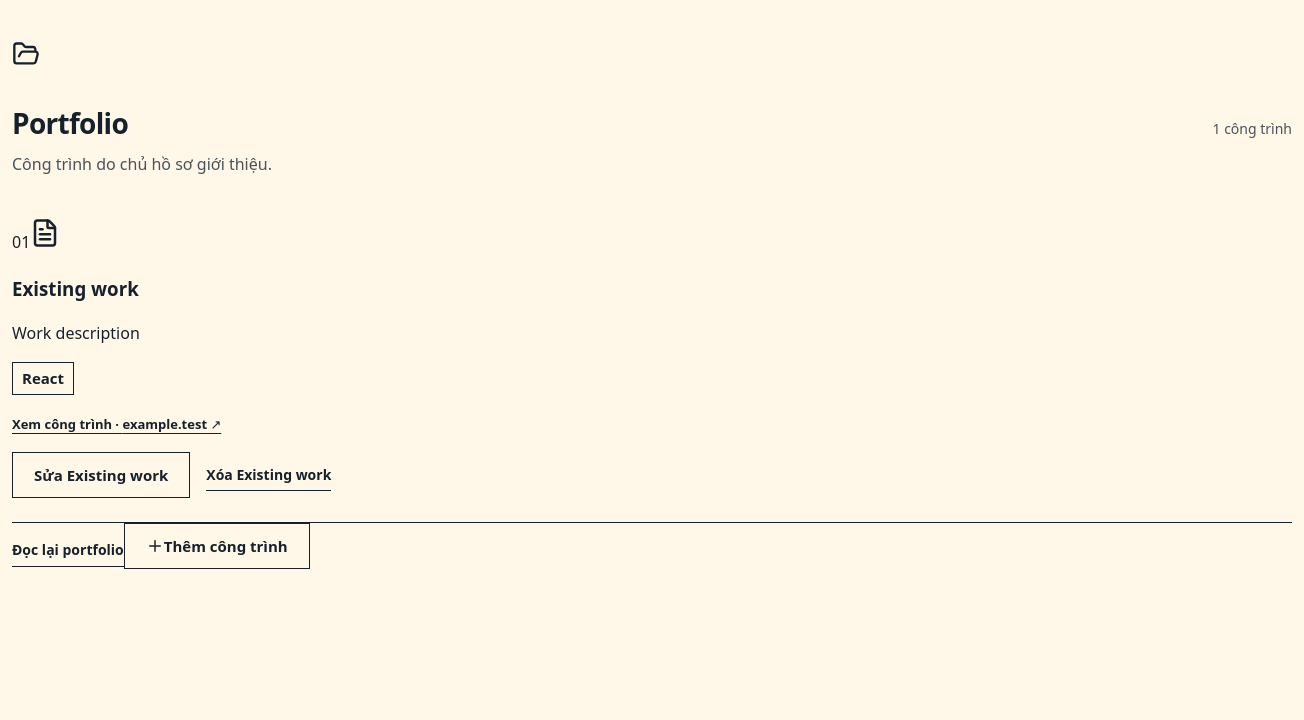
Scenario: Step 8 profile and portfolio UI › portfolio deletion reads authoritative remaining list
The image size is (1304, 720).
Click the button "Xóa Existing work": click(269, 475) [206, 459, 331, 491]
(page scrolled)
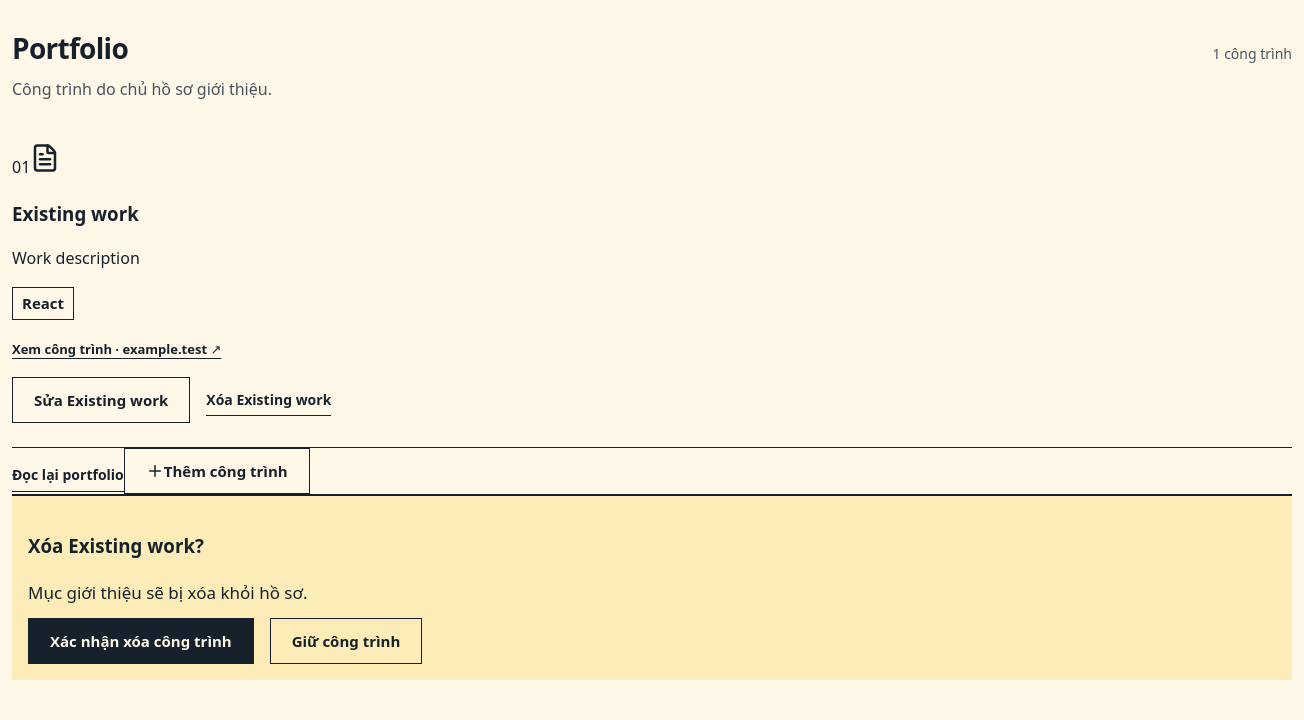
Click the button "Xác nhận xóa công trình": click(141, 641) [28, 618, 254, 664]
(page scrolled)
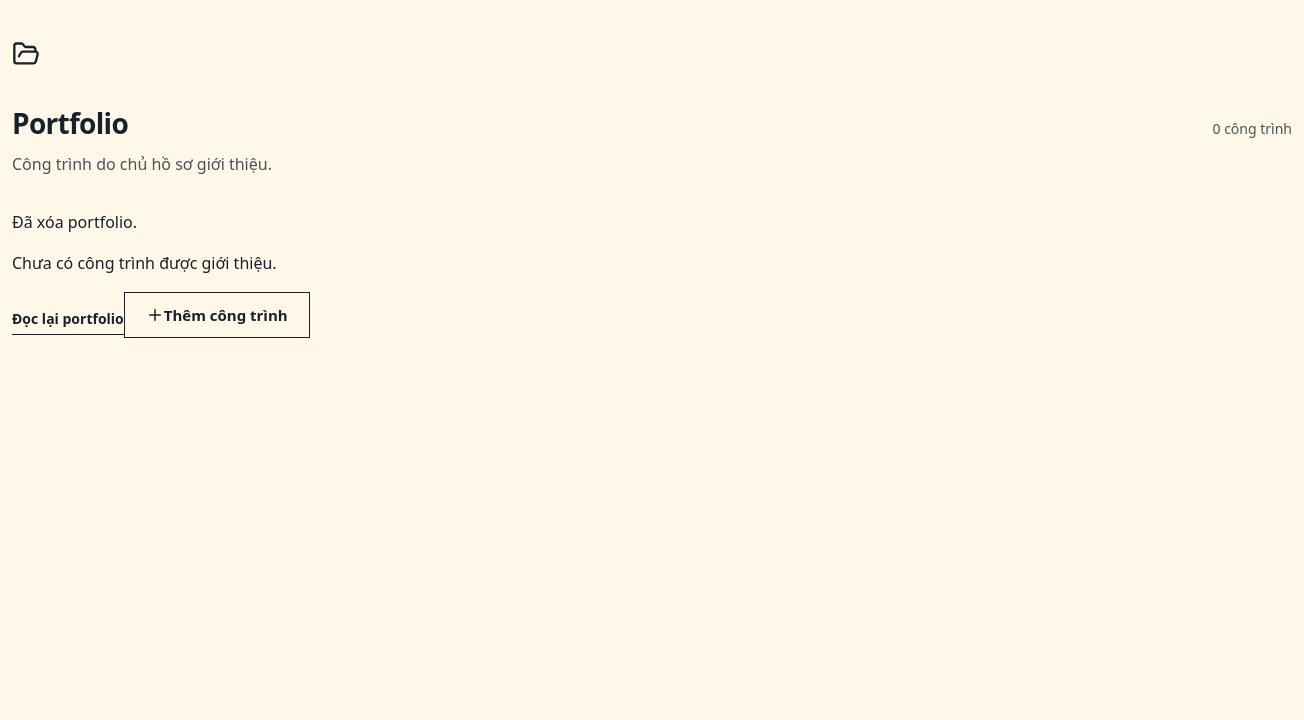
Now the text "Existing work" is gone
Now the text "Đã xóa portfolio" is shown, box [12, 211, 137, 233]
